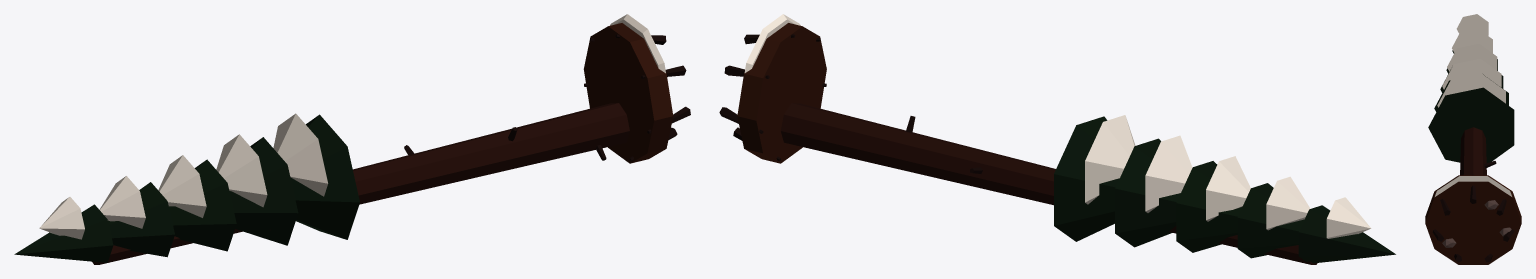
The model's file is rs_fallen_tree.glb.
3 views of the same model, side by side, from view 1: azimuth 30°, elevation 25°; view 2: azimuth 150°, elevation 25°; view 3: azimuth 270°, elevation 25° (orthographic). The views are drawn at different scales.
Visible parts, largest first — view 1: tree; view 2: tree; view 3: tree.
Part boxes in pixels (<box>): tree: <box>14,14,690,264</box>; tree: <box>719,14,1395,264</box>; tree: <box>1425,14,1521,264</box>.
Bounding box in the file's own units: 17.05 × 3.49 × 3.2.
